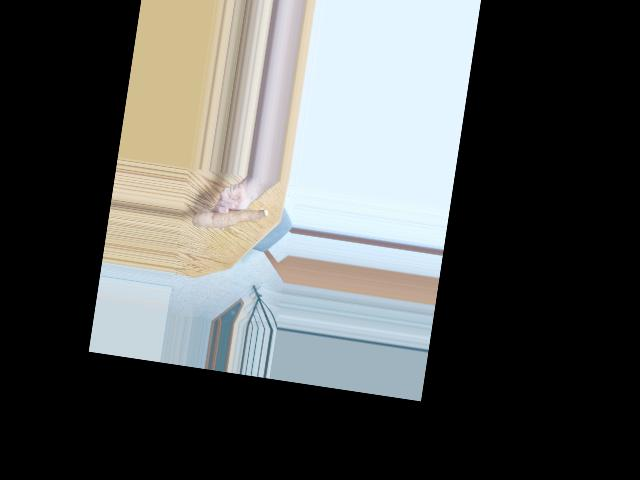sweet_potato: (193, 194, 268, 240)
